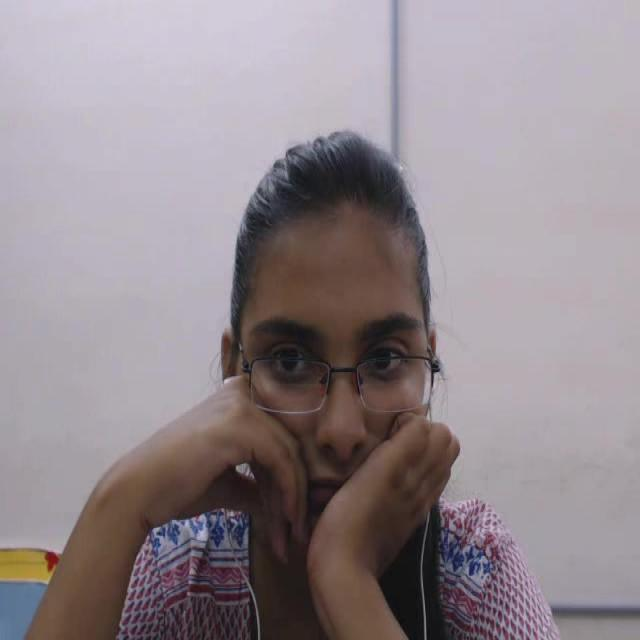Bored: (202, 109, 465, 532)
